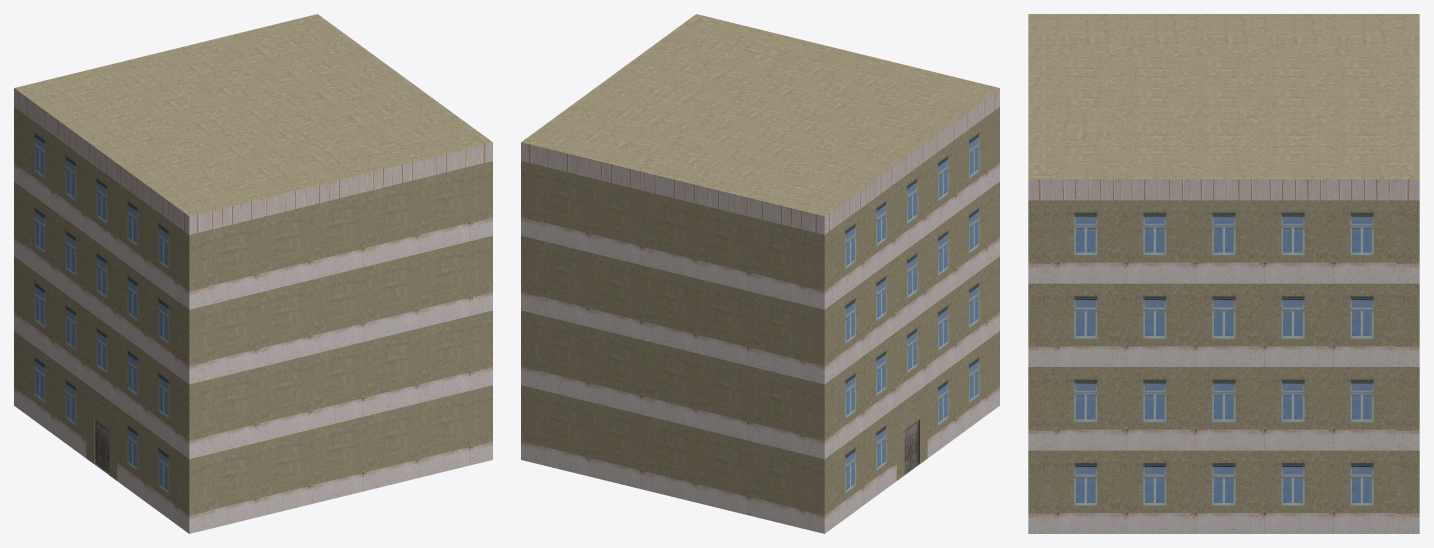
File: flat_square_concrete.glb
The picture shows the model from 3 angles, left to right: view 1: azimuth 30°, elevation 25°; view 2: azimuth 150°, elevation 25°; view 3: azimuth 270°, elevation 25°; orthographic projection. The views are drawn at different scales.
Visible parts, largest first — view 1: flat_square_concrete; view 2: flat_square_concrete; view 3: flat_square_concrete.
Boxes of the visible parts, x1,y1,x2,y2 form: flat_square_concrete: (14,14,492,533); flat_square_concrete: (521,14,999,533); flat_square_concrete: (1028,14,1419,533).
Size of the model in its own units: 17 by 17 by 17.
Materials: 1 (1 with a texture image).
